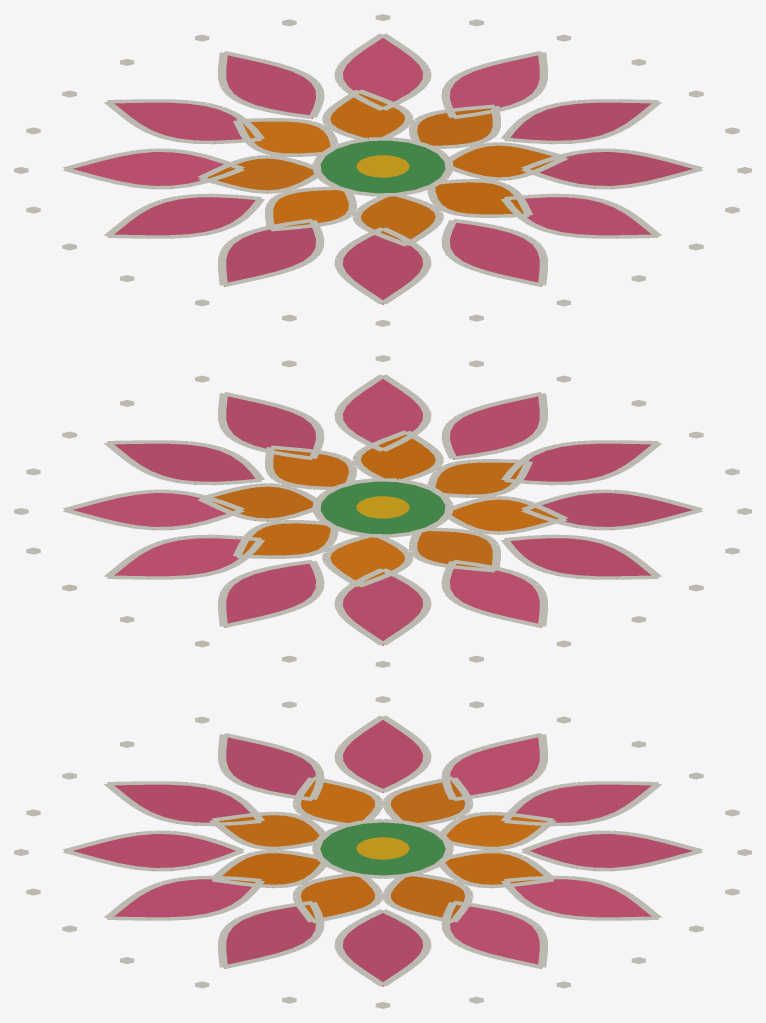
File: PRP_Kolam_A.glb
3 renders of one model, top to bottom at view 1: azimuth 30°, elevation 25°; view 2: azimuth 150°, elevation 25°; view 3: azimuth 270°, elevation 25°, orthographic.
Parts seen in each view (by area): view 1: PRP_Kolam_A_Mesh; view 2: PRP_Kolam_A_Mesh; view 3: PRP_Kolam_A_Mesh.
Part boxes in pixels (x1,y1,x2,y2): PRP_Kolam_A_Mesh: [14, 14, 751, 326]; PRP_Kolam_A_Mesh: [14, 355, 751, 667]; PRP_Kolam_A_Mesh: [14, 696, 751, 1008].
Bounding box in the file's own units: 1.33 × 0.008 × 1.32.
